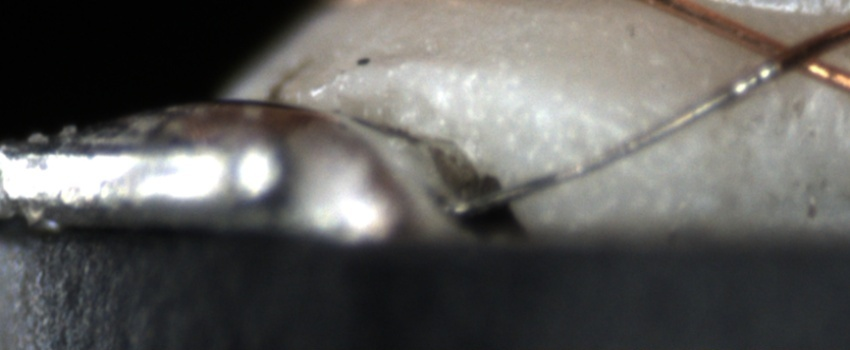CL: (750, 24, 844, 86)
TS: (447, 60, 783, 214)
TTCW: (459, 40, 814, 212)
